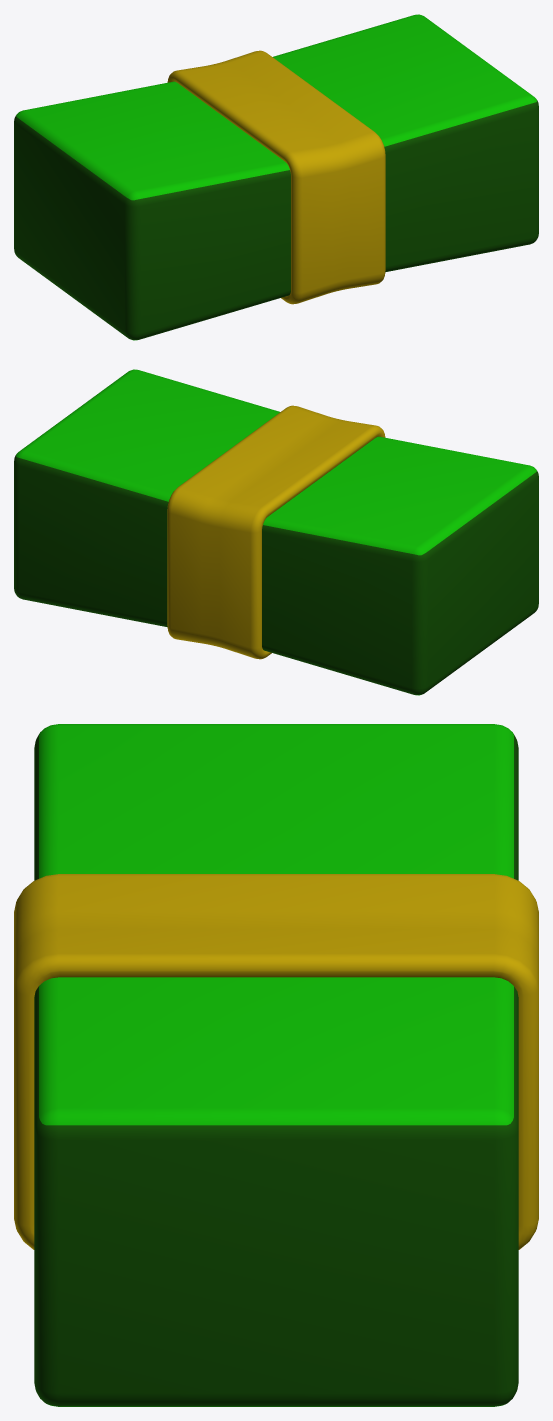
The model's file is M_Moneybill.fbx.
3 views of the same model, one above another, from view 1: azimuth 30°, elevation 25°; view 2: azimuth 150°, elevation 25°; view 3: azimuth 270°, elevation 25° (orthographic). The views are drawn at different scales.
Parts seen in each view (by area): view 1: Money, MoneyBand; view 2: Money, MoneyBand; view 3: Money, MoneyBand.
Boxes of the visible parts, x1=… form: Money: x1=14, y1=14, x2=538, y2=340; MoneyBand: x1=167, y1=50, x2=385, y2=304; Money: x1=14, y1=369, x2=538, y2=695; MoneyBand: x1=167, y1=405, x2=385, y2=659; Money: x1=34, y1=724, x2=518, y2=1406; MoneyBand: x1=14, y1=874, x2=538, y2=1249.
Bounding box in the file's own units: 0.827 × 0.2886 × 0.4559.
